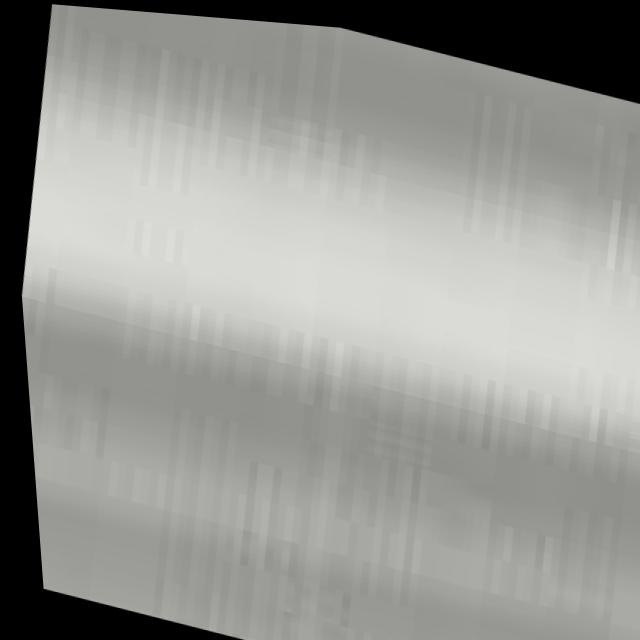metal-plates: (18, 4, 640, 640)
